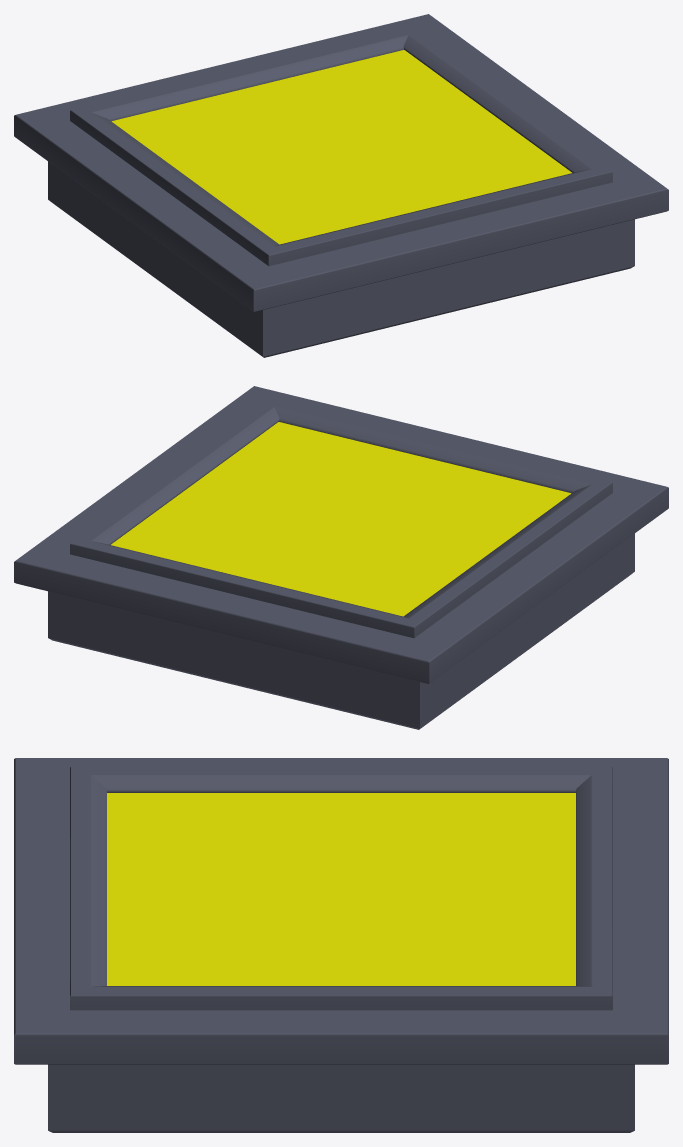
File: hologramPlatform.fbx
The picture shows the model from 3 angles, top to bottom: view 1: azimuth 30°, elevation 25°; view 2: azimuth 150°, elevation 25°; view 3: azimuth 270°, elevation 25°; orthographic projection. The views are drawn at different scales.
Parts seen in each view (by area): view 1: pCube6458; view 2: pCube6458; view 3: pCube6458.
Boxes of the visible parts, bbox=[...] form: pCube6458: bbox=[14, 14, 668, 357]; pCube6458: bbox=[14, 386, 668, 729]; pCube6458: bbox=[14, 758, 668, 1132].
Bounding box in the file's own units: 101 × 22.03 × 101.
